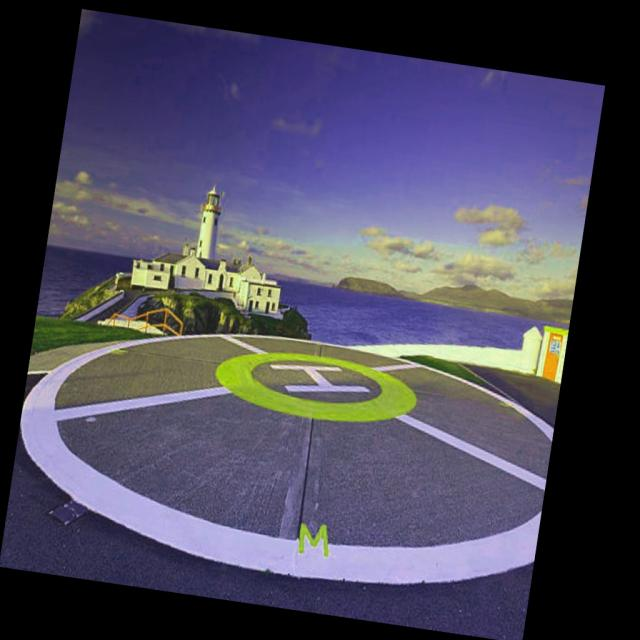helipad: (210, 345, 421, 426)
